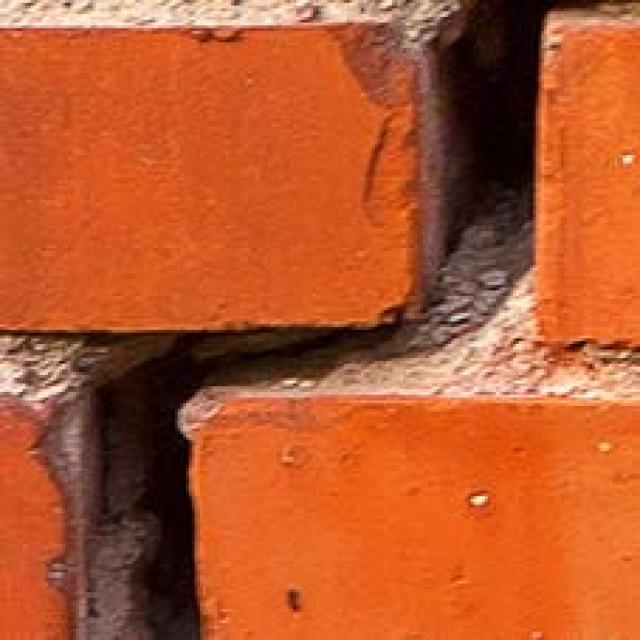Crack: (21, 0, 590, 640)
